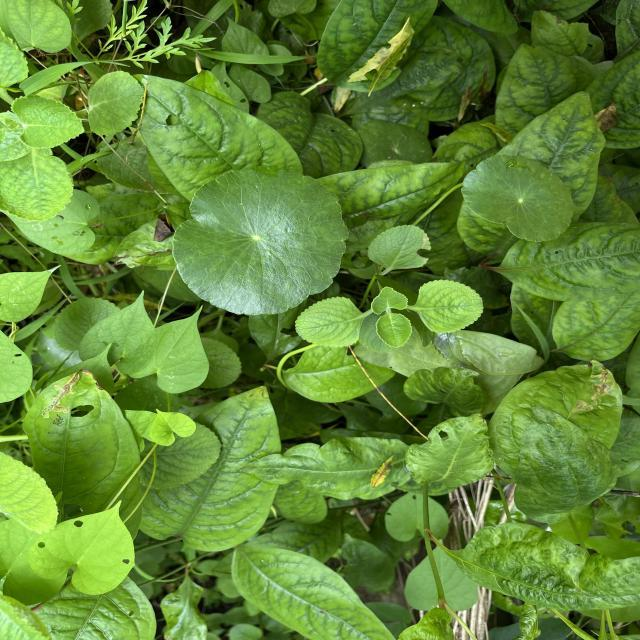Bacopa monnieri: (170, 164, 352, 319), (460, 153, 578, 245)
